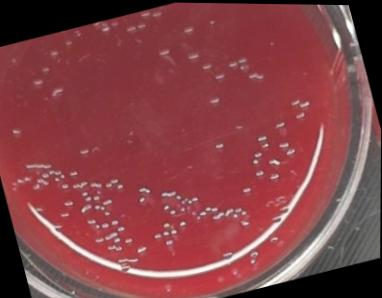pdpiscicida: (132, 181, 154, 207), (103, 175, 125, 194), (204, 91, 223, 111), (48, 83, 68, 102), (247, 148, 265, 166), (255, 130, 272, 149), (211, 67, 229, 84), (30, 73, 46, 91), (266, 154, 283, 170), (210, 138, 226, 154), (45, 46, 61, 62), (267, 170, 283, 186), (252, 165, 267, 182), (238, 181, 253, 197), (286, 93, 301, 109), (272, 118, 287, 133), (283, 144, 298, 158), (163, 237, 177, 251), (298, 96, 311, 110), (293, 108, 307, 121), (39, 63, 52, 76), (152, 229, 164, 243), (275, 138, 289, 150), (177, 218, 188, 230)
